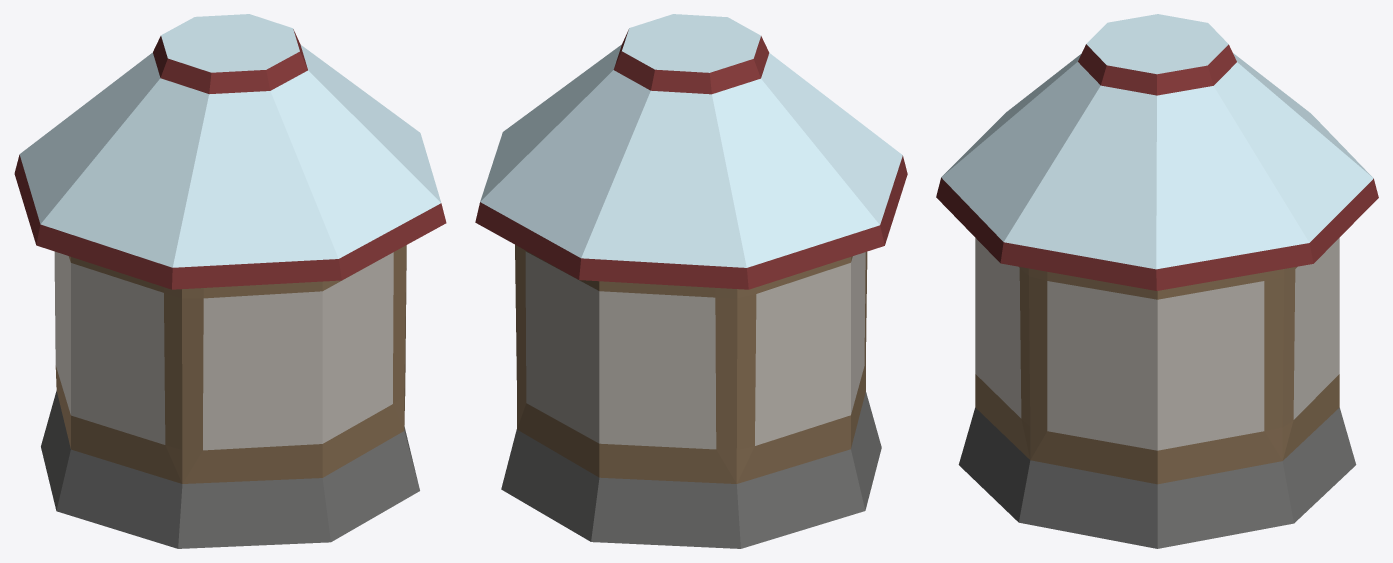
File: SM_Bld_Knights_House_04_Snow.fbx
3 renders of one model, left to right at view 1: azimuth 30°, elevation 25°; view 2: azimuth 150°, elevation 25°; view 3: azimuth 270°, elevation 25°, orthographic.
Parts seen in each view (by area): view 1: SM_Bld_Knights_House_04_Snow; view 2: SM_Bld_Knights_House_04_Snow; view 3: SM_Bld_Knights_House_04_Snow.
Boxes of the visible parts, box(x1,y1,x2,y2) form: SM_Bld_Knights_House_04_Snow: box(14, 14, 446, 548); SM_Bld_Knights_House_04_Snow: box(475, 14, 907, 548); SM_Bld_Knights_House_04_Snow: box(936, 14, 1378, 548).
Bounding box in the file's own units: 77.16 × 80.91 × 77.16.
1 material, 1 textured.
